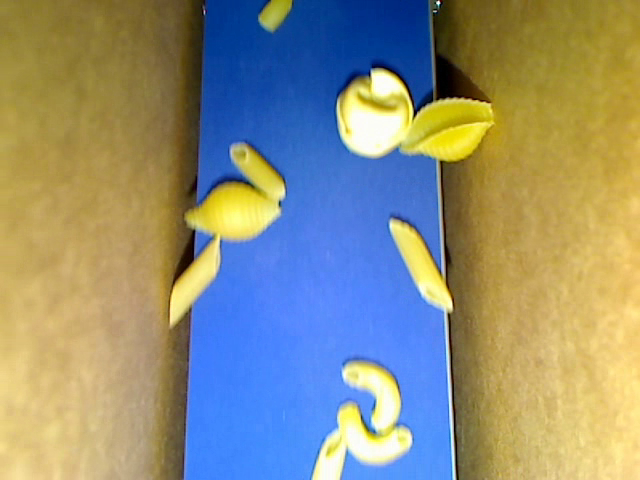elbow: (336, 399, 413, 467), (340, 359, 401, 434), (257, 1, 291, 34)
penne: (387, 216, 454, 313), (168, 234, 221, 329), (228, 141, 285, 200), (311, 426, 348, 479)
shell: (399, 96, 494, 163), (183, 182, 282, 242)
tortellini: (336, 67, 414, 160)
